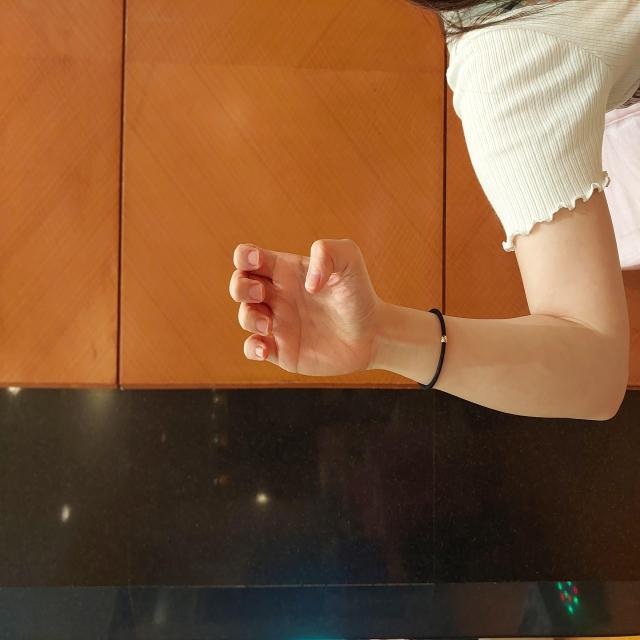E: (262, 227, 405, 381)
